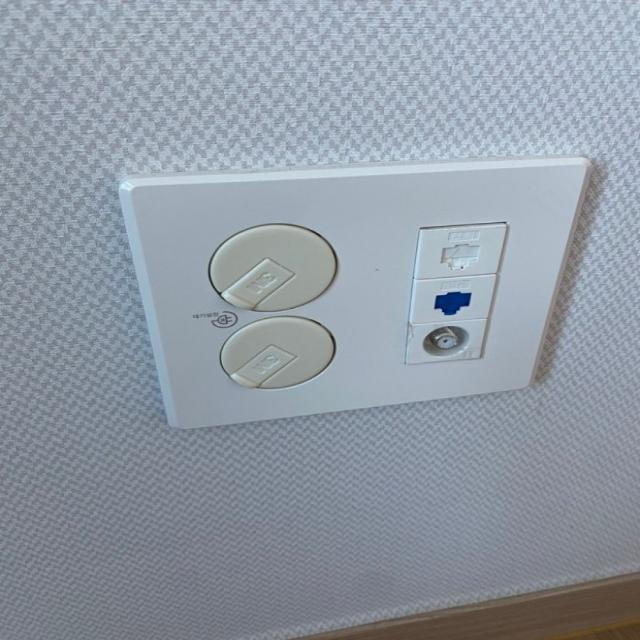typeb: (88, 138, 622, 459)
